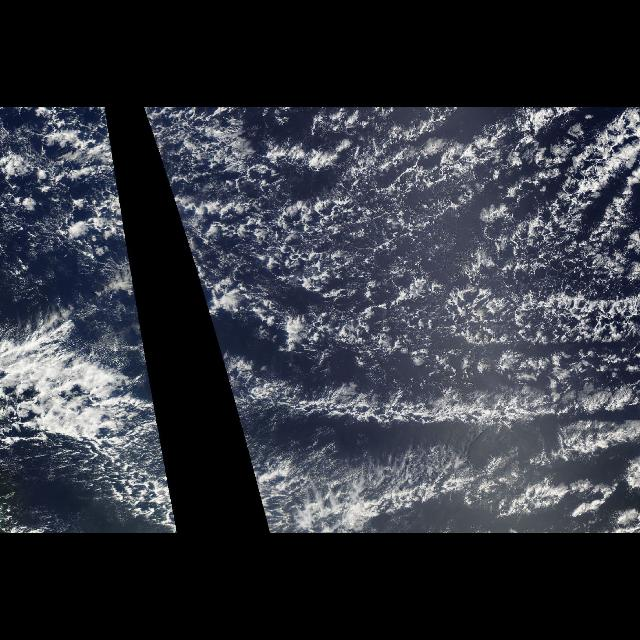Fish: (250, 381, 640, 521)
Gravel: (145, 114, 640, 380), (8, 114, 154, 380)
